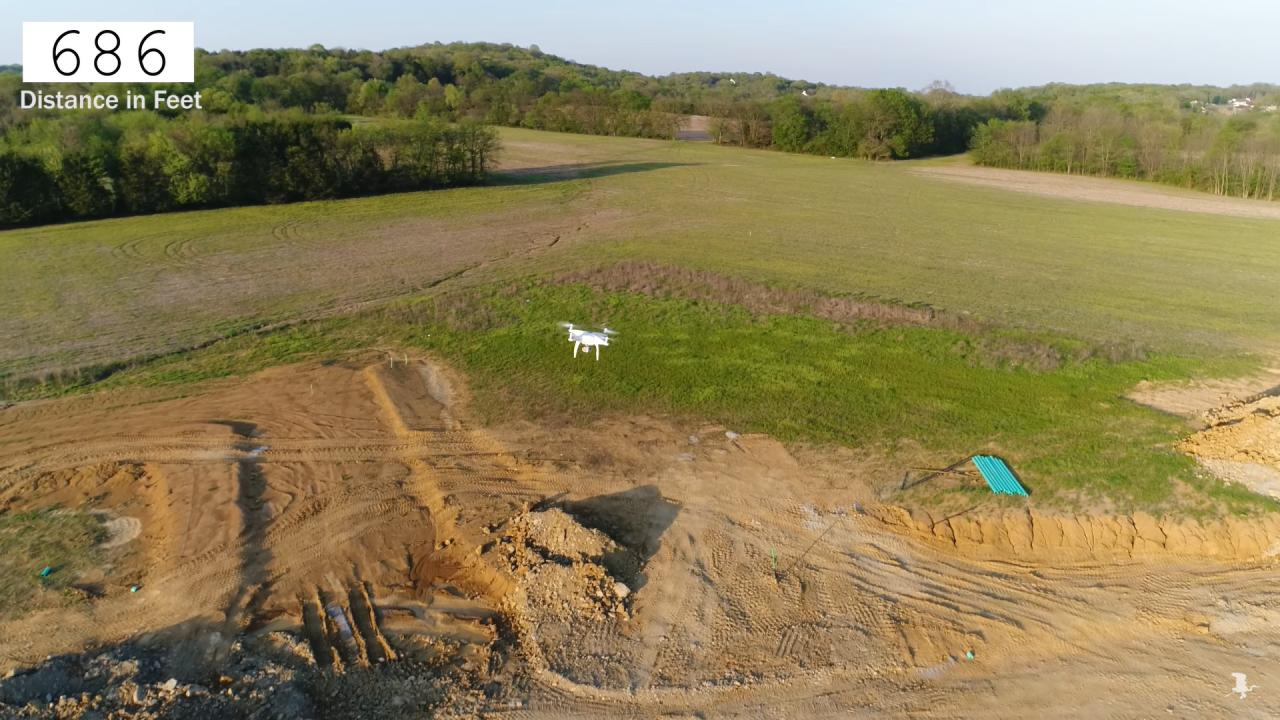Drone: (544, 310, 627, 370)
